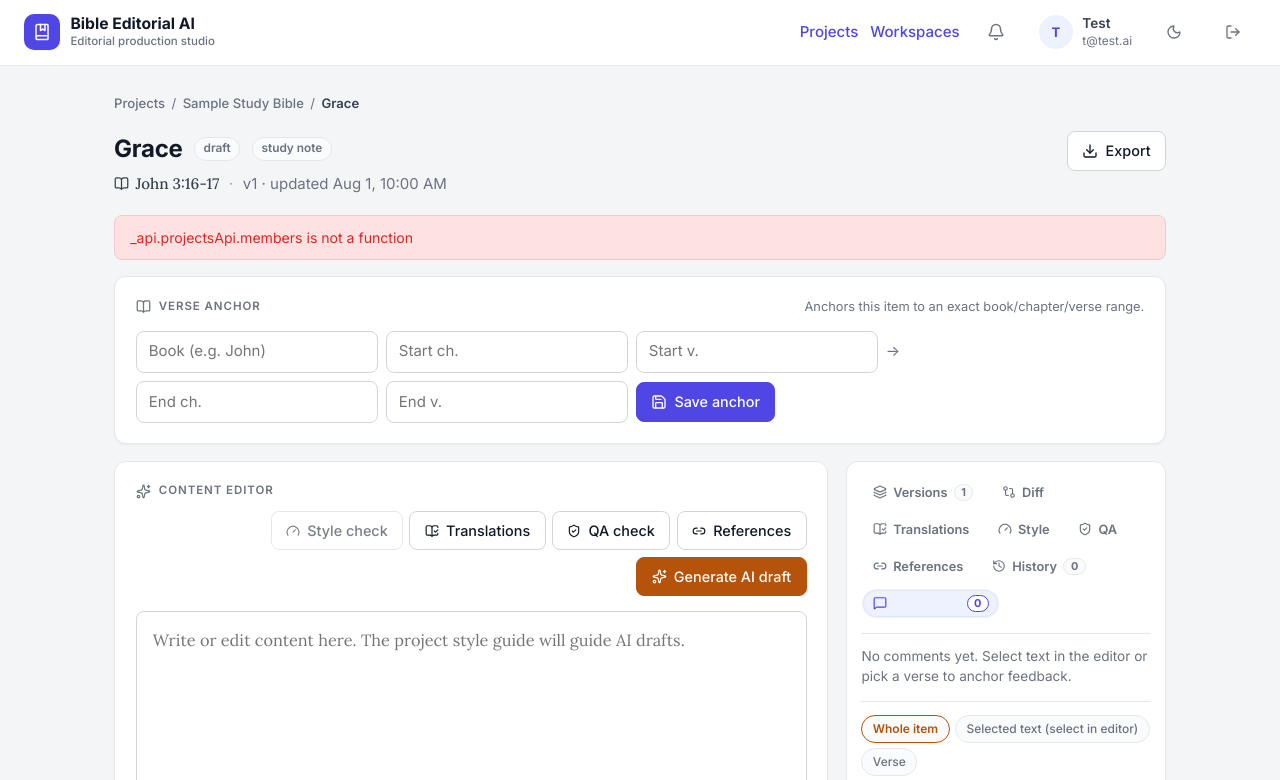
Test: Editor translation comparison sidebar › toggles the sidebar closed again
Check: the heading "Grace" is shown, box x1=114 y1=131 x2=183 y2=167
Click the button "Translations" at (478, 531), box x1=410 y1=511 x2=546 y2=550
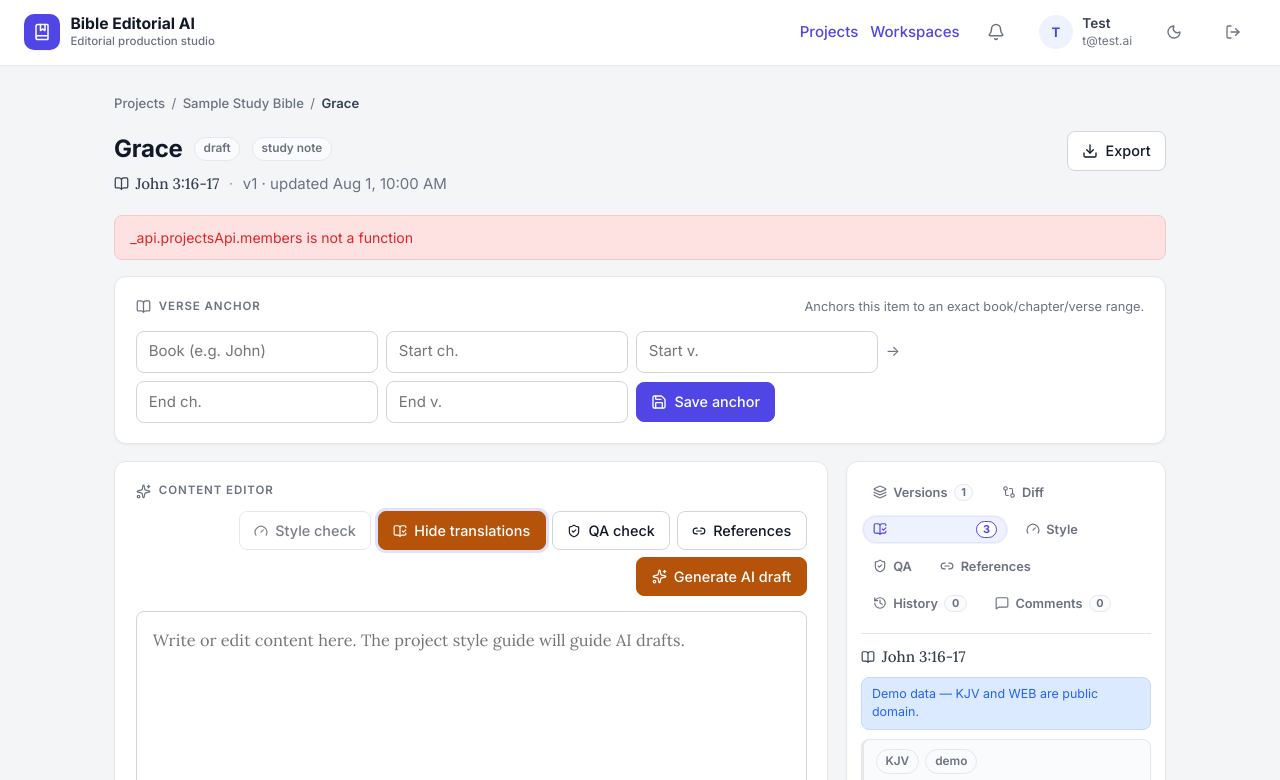
Check: the 2nd text "John 3:16-17" is shown, box x1=861 y1=646 x2=966 y2=669
Click the button "Hide translations" at (462, 531), box x1=378 y1=511 x2=546 y2=550
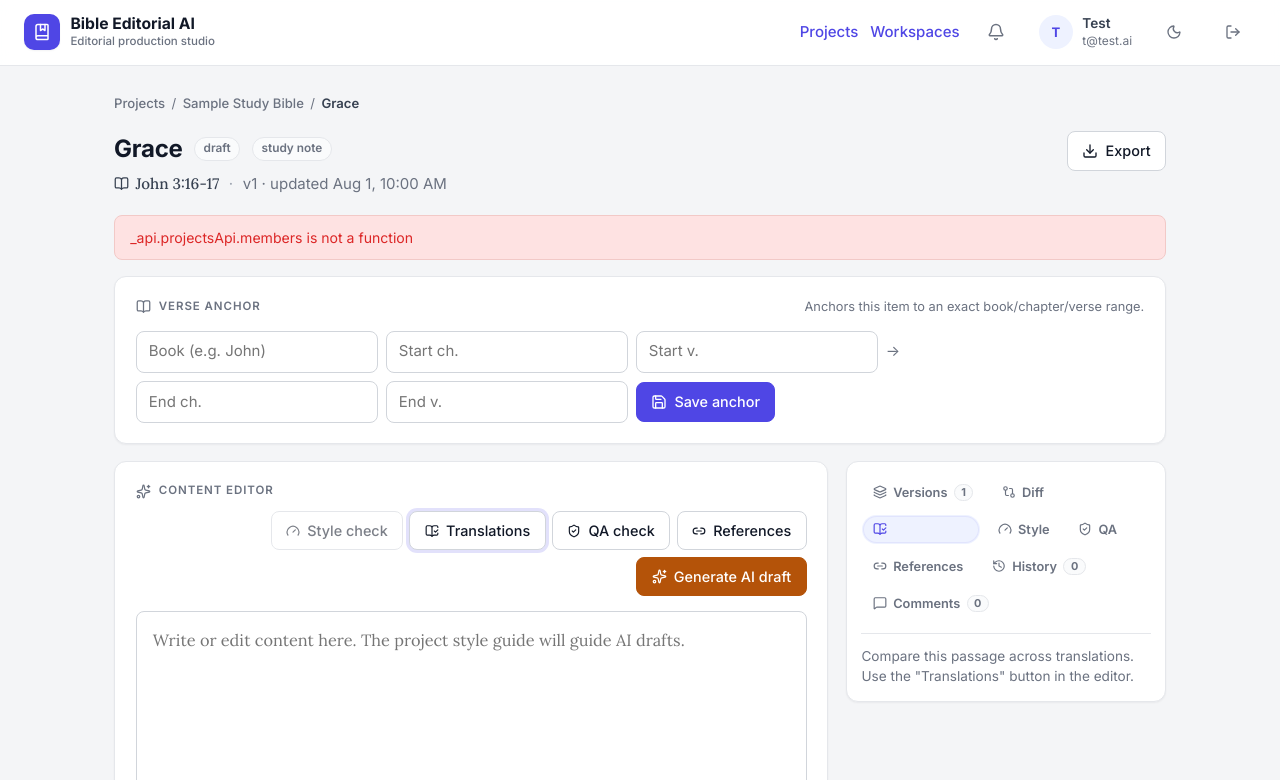
Check: the text "Compare this passage across translations" is shown, box x1=861 y1=648 x2=1134 y2=684
